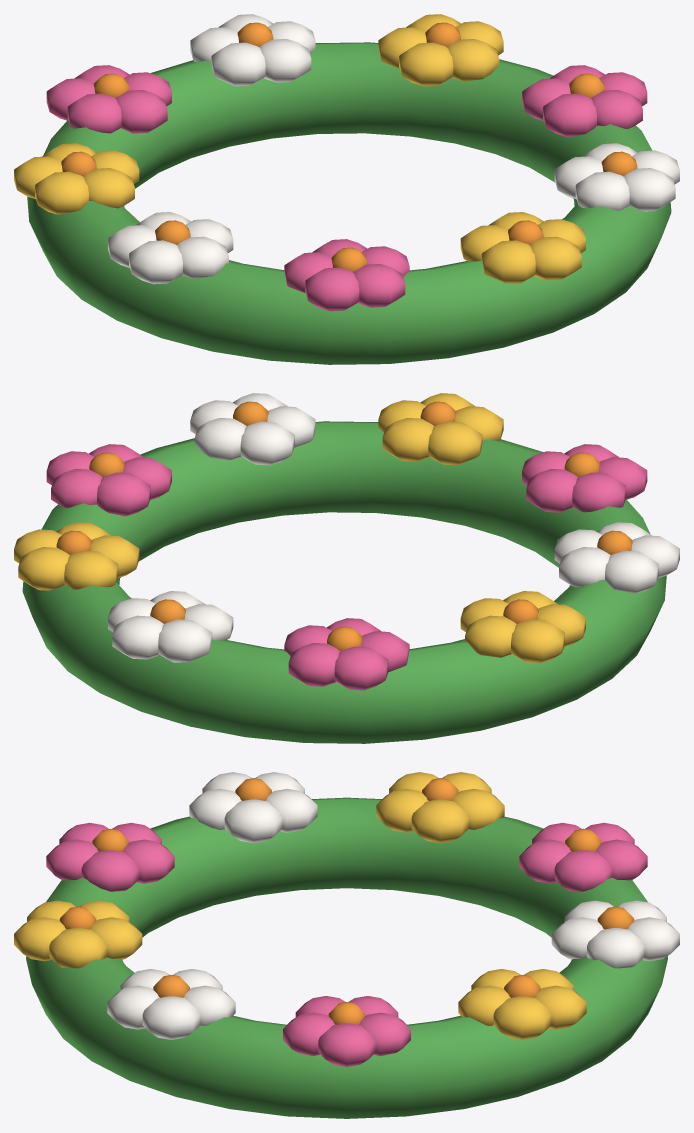
The model's file is festival-wreath.glb.
3 renders of one model, top to bottom at view 1: azimuth 30°, elevation 25°; view 2: azimuth 150°, elevation 25°; view 3: azimuth 270°, elevation 25°, orthographic.
Visible parts, largest first — view 1: wreath; view 2: wreath; view 3: wreath.
Boxes of the visible parts, x1,y1,x2,y2 form: wreath: (14,14,679,364); wreath: (14,393,679,743); wreath: (14,772,679,1118).
Size of the model in its own units: 0.411 by 0.078 by 0.4147.
